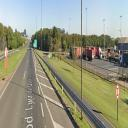NoSeguir: (4, 46, 8, 58)
